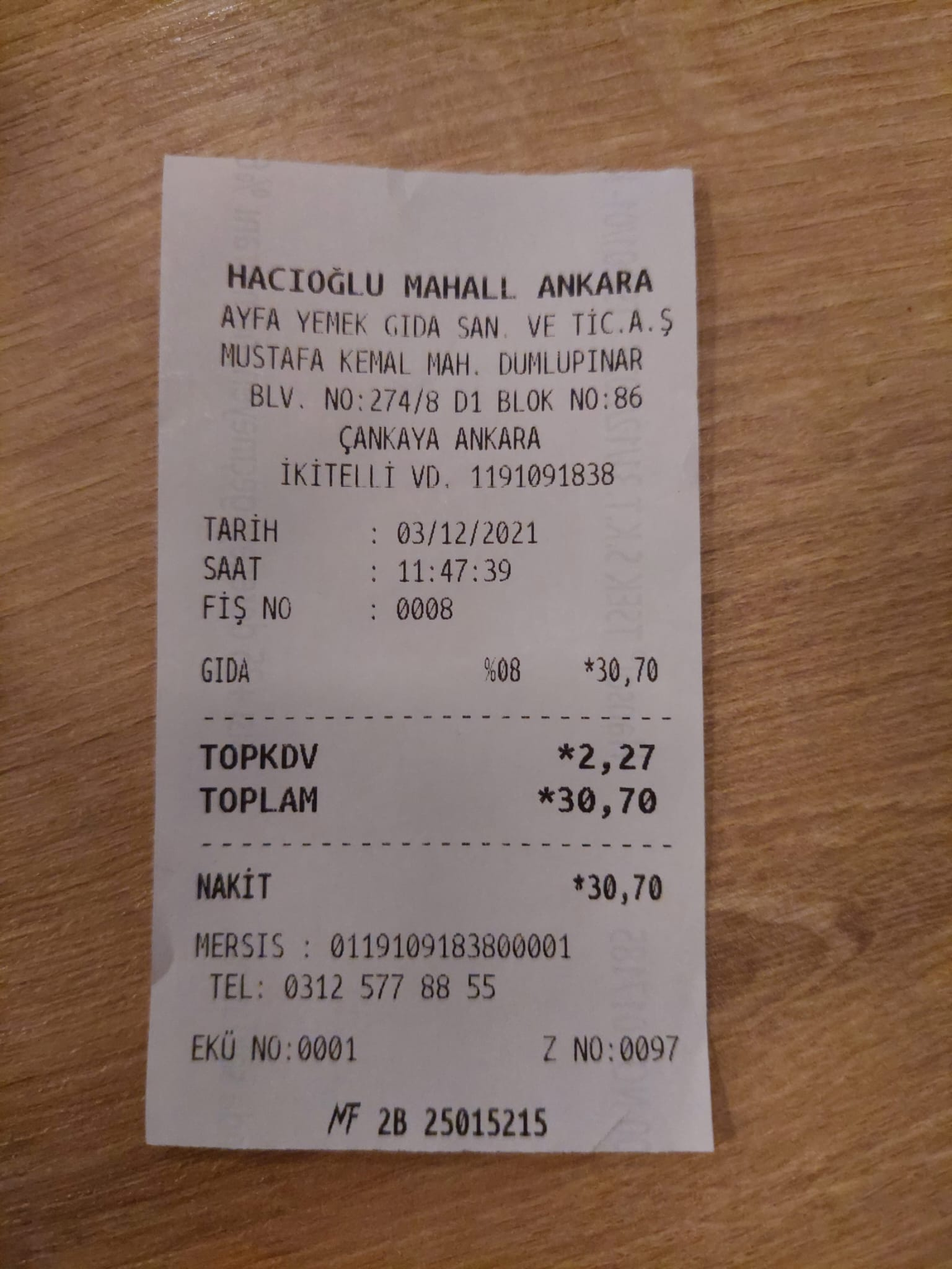date: (547, 777, 676, 834)
price: (393, 512, 542, 554)
workplace: (207, 247, 687, 381)
